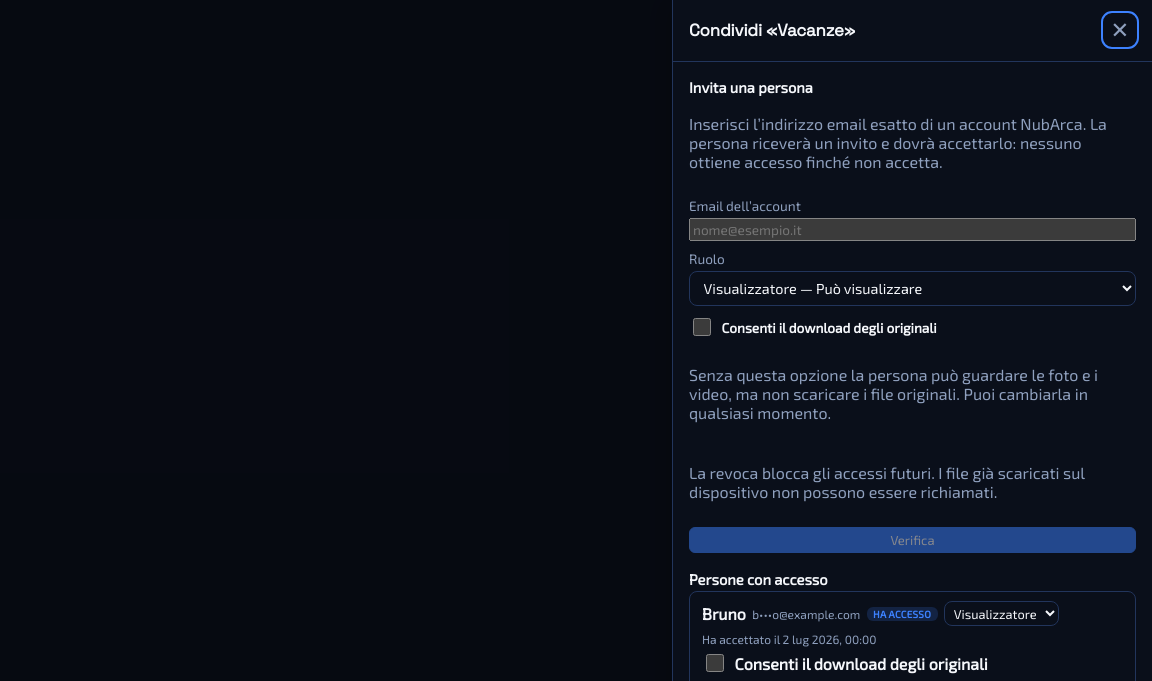
Test case: AlbumSharePanel — roles › reloads instead of keeping a stale control when the membership is gone
The width and height of the screenshot is (1152, 681).
Select "Collaboratore" in the 1st dropdown with test id "album-share-member-role". click: (1001, 614)
box: [944,601,1058,626]
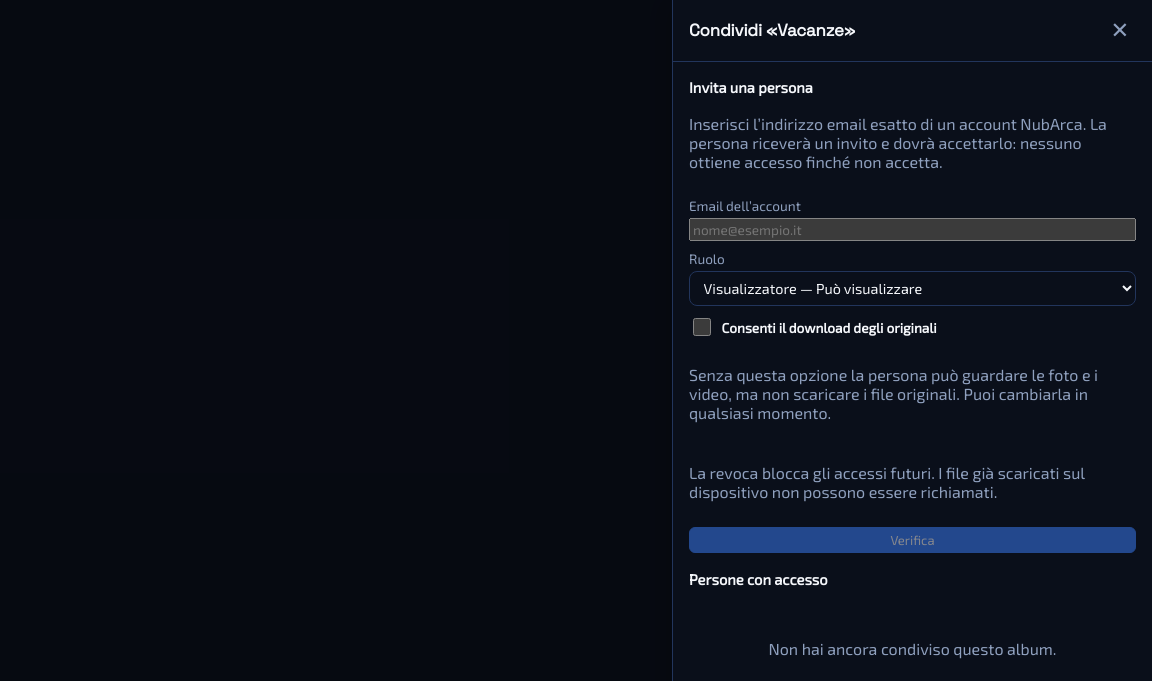
expect the text "Non hai ancora condiviso questo album." is shown: met, box [768,639,1056,658]
expect the dropdown with test id "album-share-member-role" is gone: met
